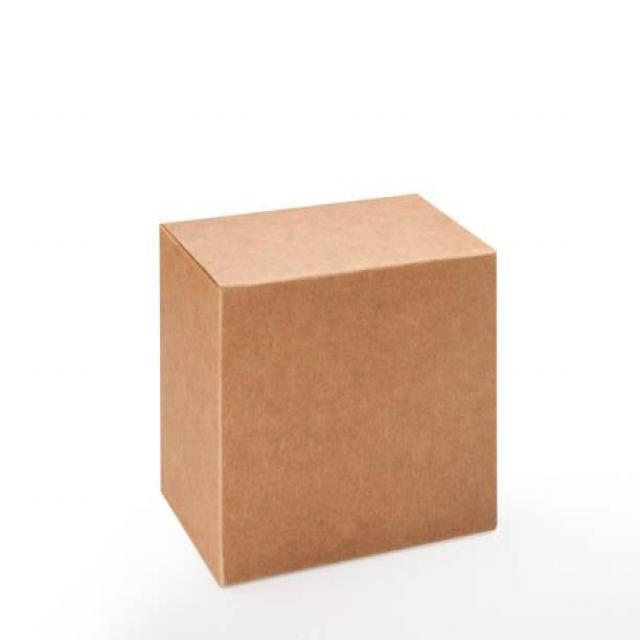box: (140, 182, 506, 608)
